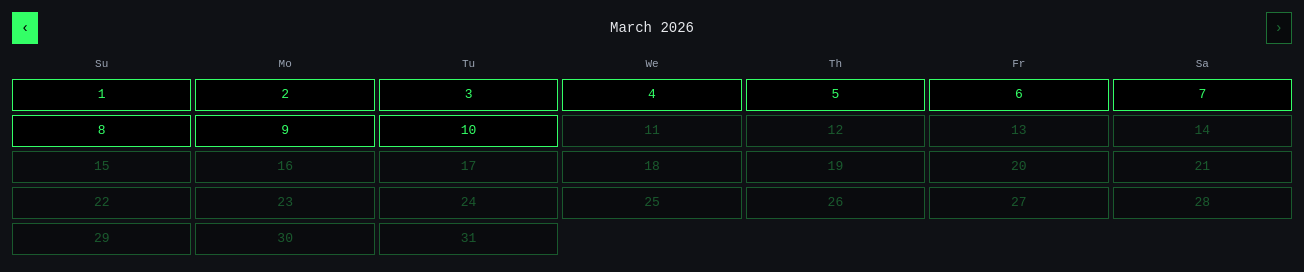
Calendar › navigates months and disables days after max
The width and height of the screenshot is (1304, 272).
Expected: the button "20" is disabled, [929,150,1108,182]
Note: Can go back a month.
Click the button named "Previous month". click: point(25, 28)
box: [12,12,38,44]
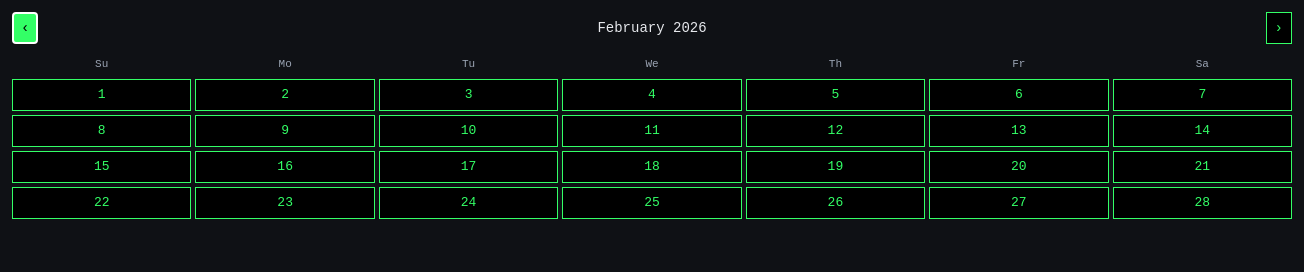
Expected: the text "February 2026" is shown, [597,18,707,38]
Note: Next month is capped at the max month.
Click the button named "Next month". click: point(1279, 28)
box: [1266,12,1292,44]
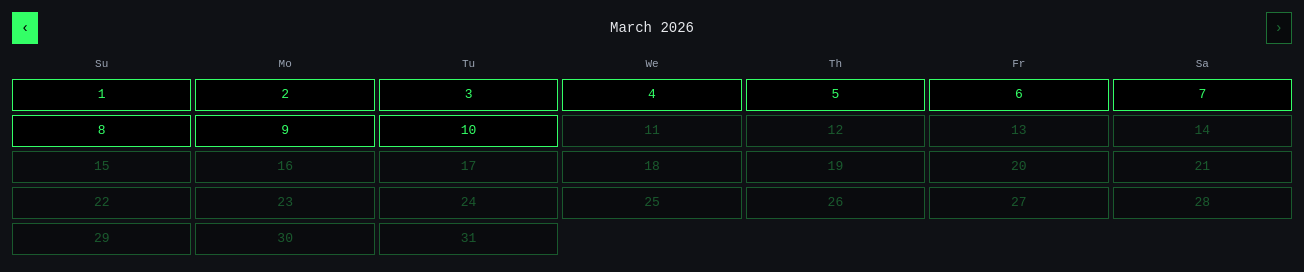
Expected: the text "March 2026" is shown, [610,18,694,38]
